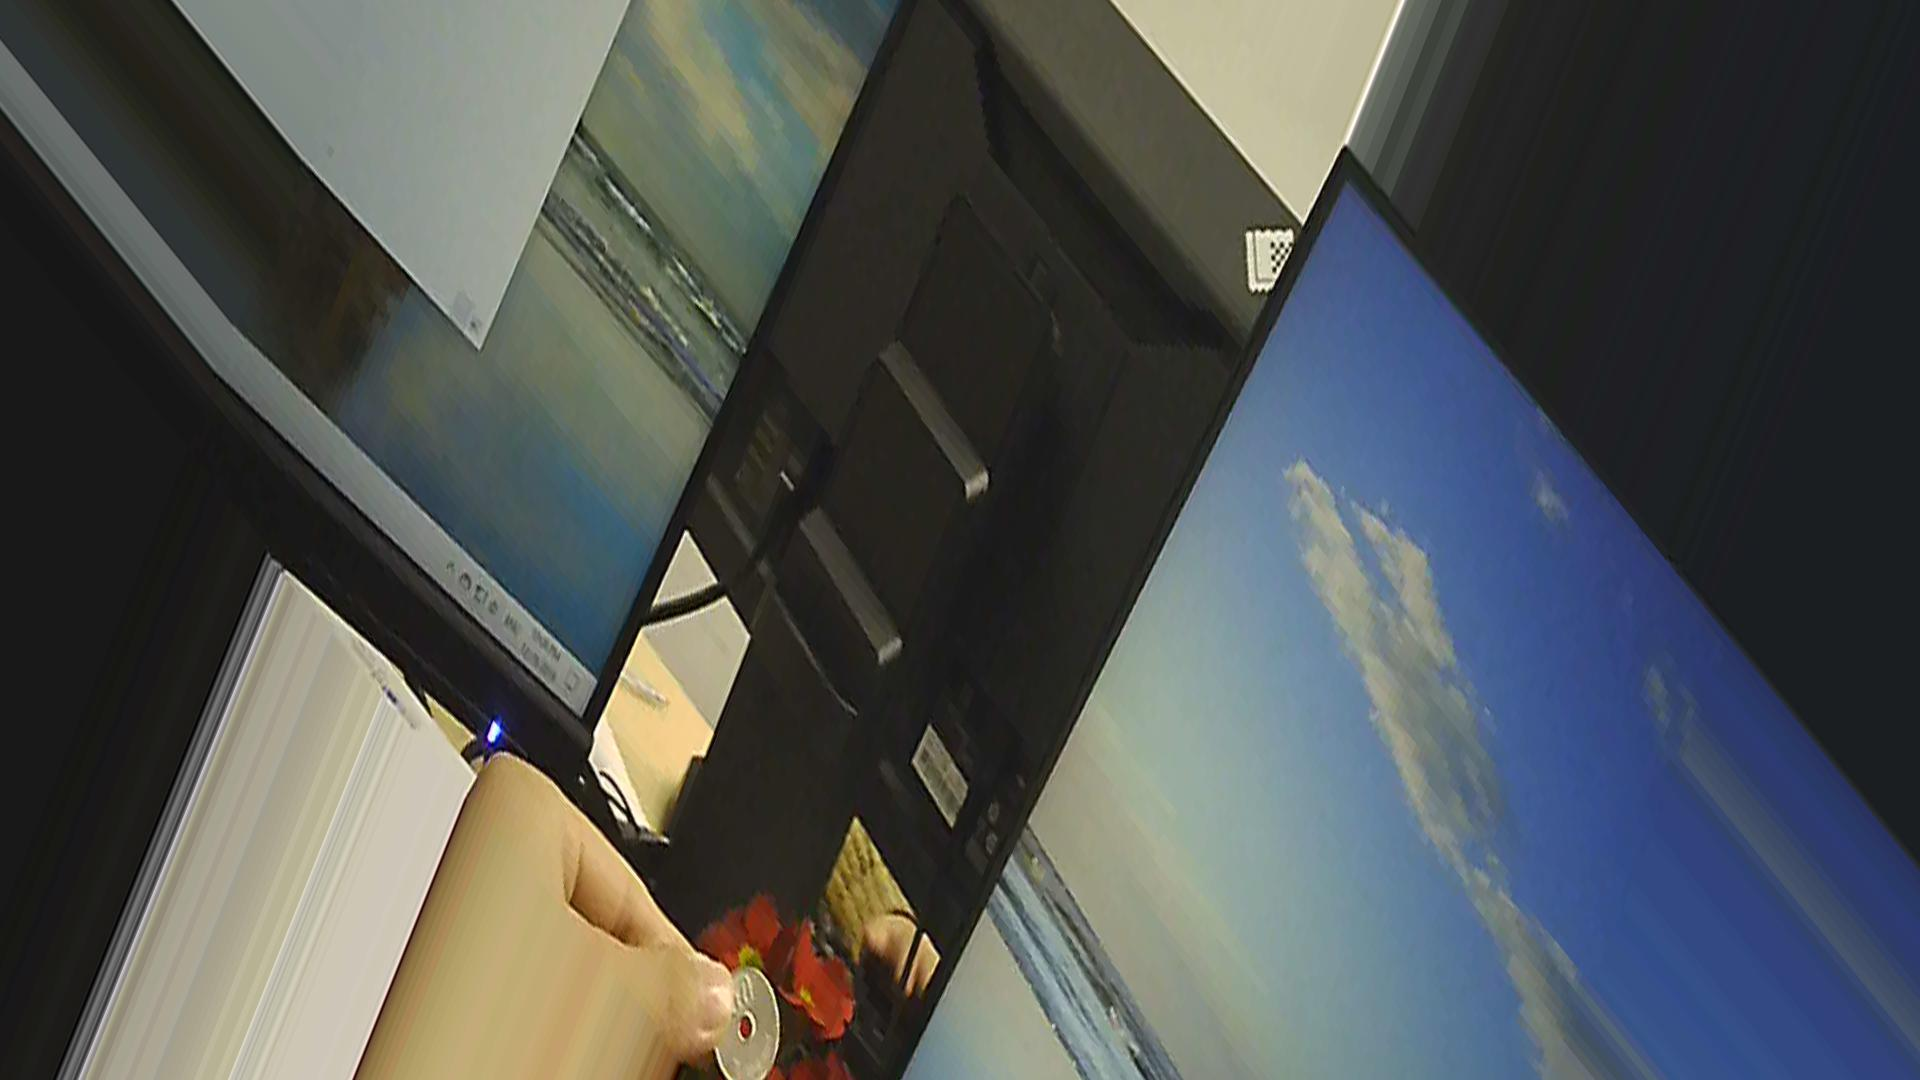50 Yen: (698, 957, 785, 1079)
